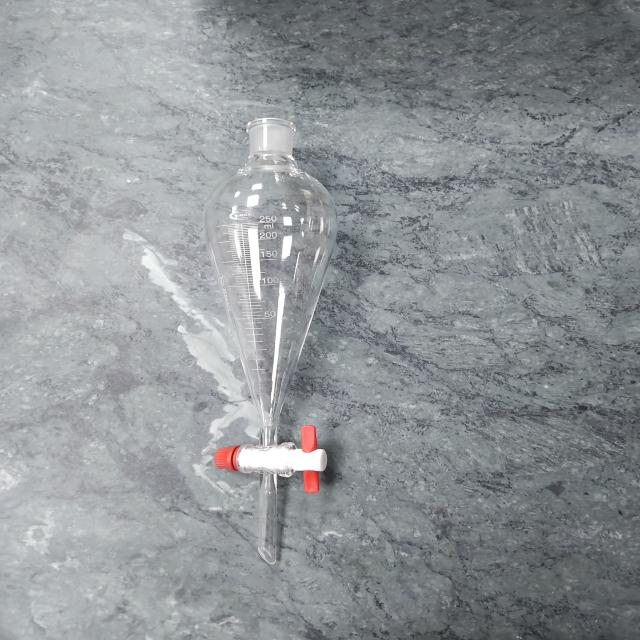Separating_Funnel: (152, 86, 388, 584)
